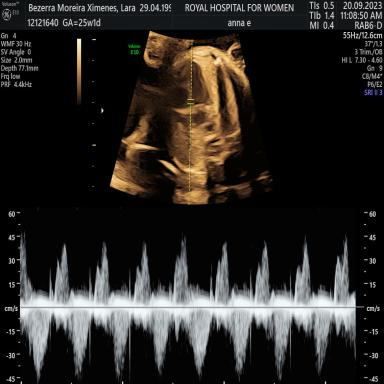Ultrasound-Waves: (24, 212, 355, 384)
